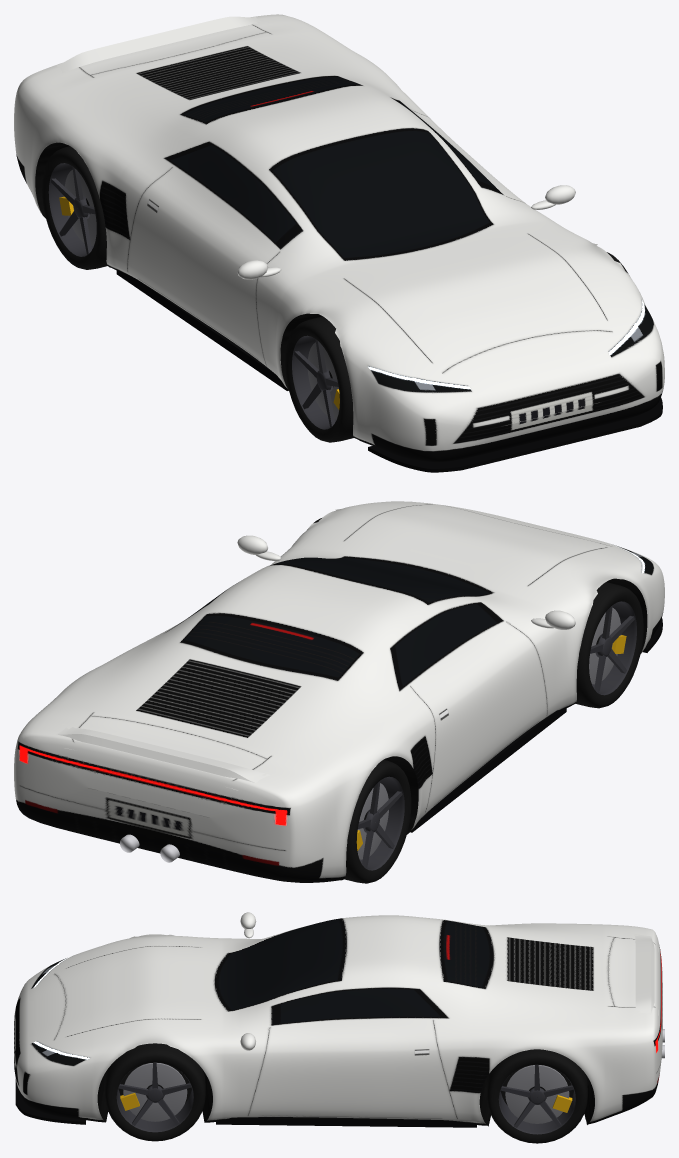
The model's file is car_halcyon.glb.
3 renders of one model, top to bottom at view 1: azimuth 30°, elevation 25°; view 2: azimuth 150°, elevation 25°; view 3: azimuth 270°, elevation 25°, orthographic. The views are drawn at different scales.
Visible parts, largest first — view 1: Body, Wheel_FR, Wheel_RR; view 2: Body, Wheel_FR, Wheel_RR; view 3: Body, Wheel_FL, Wheel_RL.
Boxes of the visible parts, x1,y1,x2,y2 form: Body: [14, 14, 664, 472]; Wheel_FR: [285, 316, 353, 442]; Wheel_RR: [42, 146, 107, 269]; Body: [14, 501, 664, 882]; Wheel_FR: [576, 582, 643, 708]; Wheel_RR: [344, 759, 411, 883]; Body: [14, 912, 664, 1127]; Wheel_FL: [105, 1043, 205, 1141]; Wheel_RL: [487, 1049, 587, 1143].
Size of the model in its own units: 2.17 by 1.1 by 4.52.
Materials: 9 (1 with a texture image).
